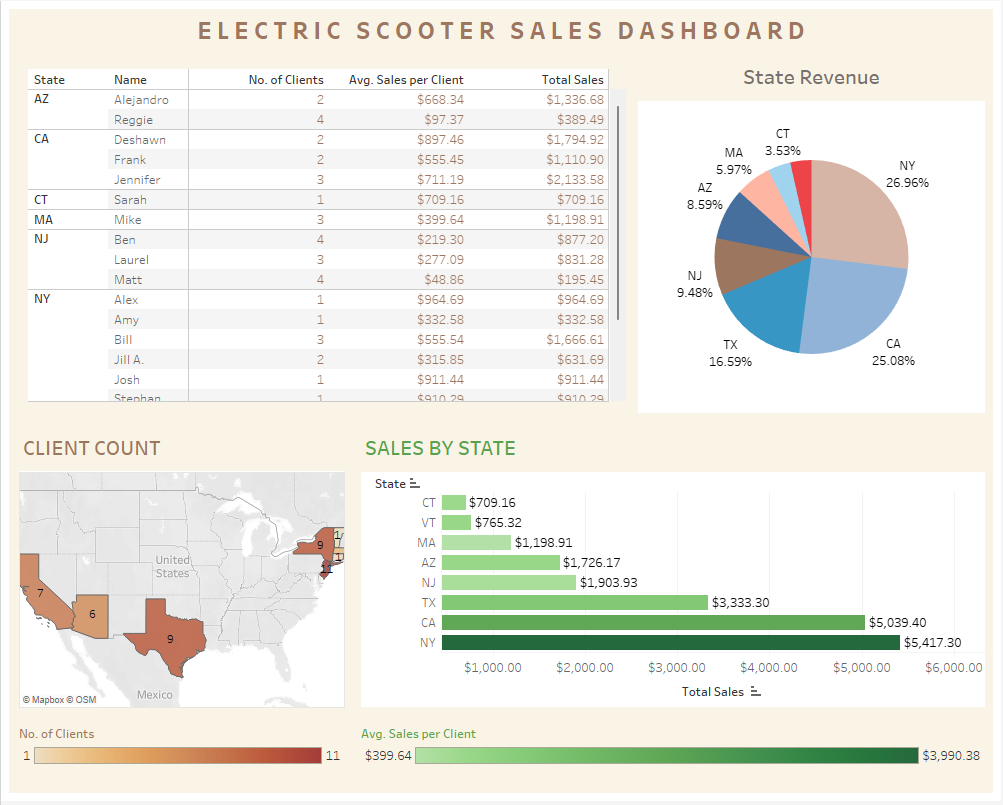

The page's visual inventory and layout, read from the dashboard file:
{"tool":"tableau","page":{"name":"Electric Scooter Sales Dashboard","canvas":[1000,800],"ordinal":0},"visuals":[{"type":"title","box":[8,8,984,42]},{"type":"worksheet","title":"Sales Table","mark":"Automatic","rows":["State","Name"],"box":[8,50,621,371]},{"type":"worksheet","title":"State Revenue","mark":"Pie","box":[629,50,363,371]},{"type":"worksheet","title":"Client Count","mark":"Automatic","box":[8,421,344,295]},{"type":"worksheet","title":"Sales By State","mark":"Automatic","rows":["State"],"cols":["Sales"],"box":[352,421,640,295]},{"type":"legend","title":"Client Count","param":"[federated.1itbmy60h2xvk416mtx320m7ksnh].[sum:No. Clients:qk]","box":[8,716,344,76]},{"type":"legend","title":"Sales By State","param":"[federated.1itbmy60h2xvk416mtx320m7ksnh].[sum:Avg. Sales per Client:qk]","box":[352,716,640,76]}]}

Visuals, with their boxes in screenshot pixels (x1, y1, x2, y2), scaled from the page's 1000x800 canvas onto the 1003x805 screenshot:
title: <region>8, 8, 995, 50</region>
"Sales Table" worksheet: <region>8, 50, 631, 424</region>
"State Revenue" worksheet (Pie marks): <region>631, 50, 995, 424</region>
"Client Count" worksheet: <region>8, 424, 353, 720</region>
"Sales By State" worksheet: <region>353, 424, 995, 720</region>
"Client Count" legend: <region>8, 720, 353, 797</region>
"Sales By State" legend: <region>353, 720, 995, 797</region>
